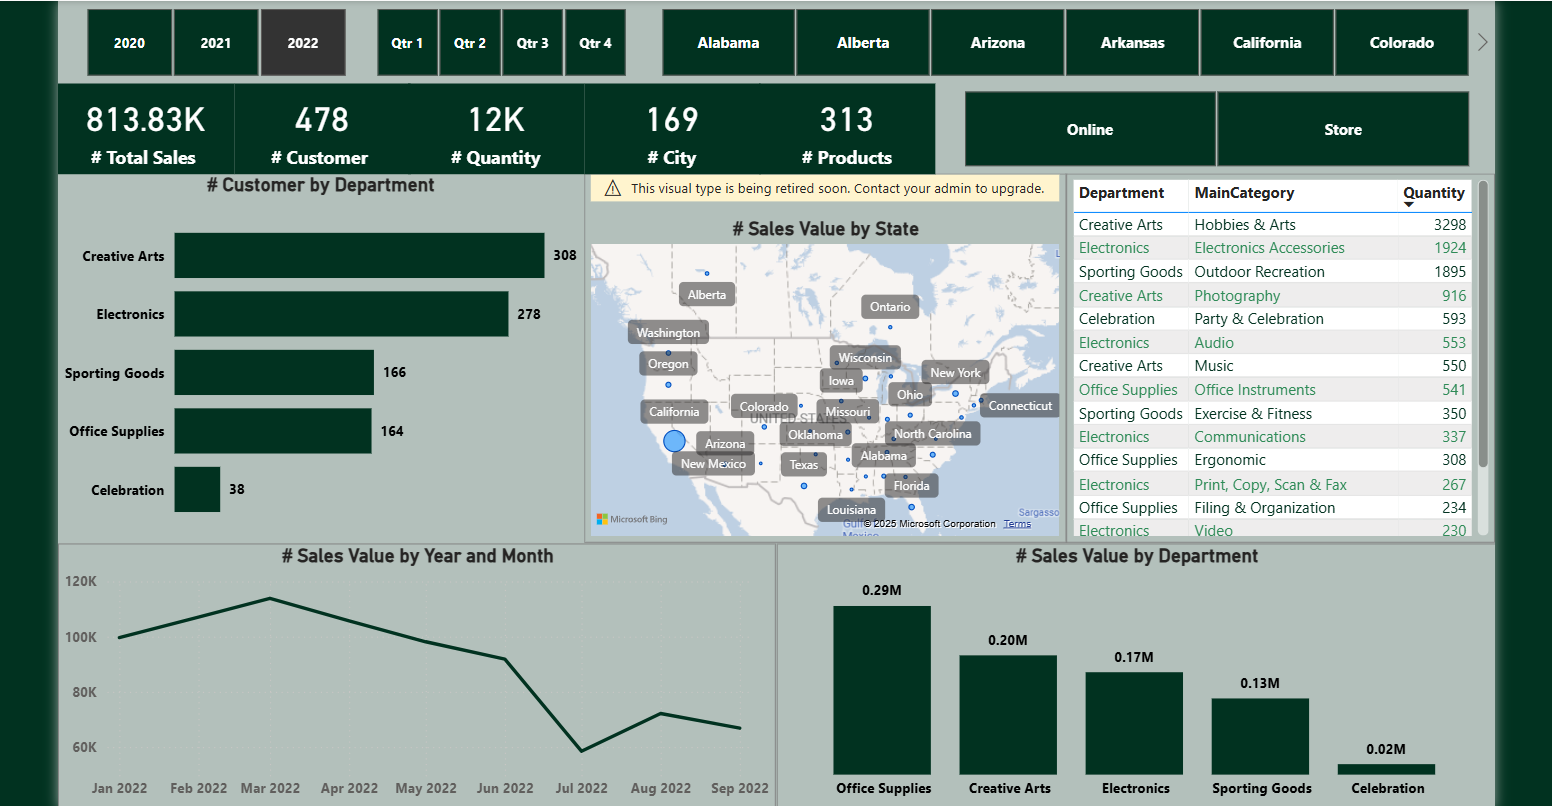

The page's visual inventory and layout, read from the dashboard file:
{"tool":"powerbi","page":{"name":"Page 1","canvas":[1280,720],"ordinal":0},"visuals":[{"type":"clusteredBarChart","title":" # Customer  by Department","fields":{"Category":["RawData.Department"],"Y":["Count(RawData.Customer ID)"]},"box":[0,154.1,468.3,328.9],"z":0},{"type":"lineChart","title":"# Sales Value by Year and Month","fields":{"Category":["RawData.Date.Variation.Date Hierarchy.Year","RawData.Date.Variation.Date Hierarchy.Month"],"Y":["Sum(RawData.Sales Value)"]},"box":[0,483,639.5,237.2],"z":1000},{"type":"columnChart","title":"# Sales Value by Department","fields":{"Category":["RawData.Department"],"Y":["Sum(RawData.Sales Value)"]},"box":[639.5,483,640.8,237.2],"z":2000},{"type":"map","title":"# Sales Value by State","fields":{"Category":["RawData.State/Region"],"Size":["Sum(RawData.Sales Value)"]},"box":[468.3,154.1,429.2,328.9],"z":3000},{"type":"tableEx","fields":{"Values":["RawData.Department","RawData.MainCategory","Sum(RawData.Quantity)"]},"box":[897.6,154.1,382.7,328.9],"z":4000},{"type":"card","fields":{"Values":["Count(RawData.Product ID)"]},"box":[624.9,73.4,156.5,80.7],"z":5000},{"type":"card","fields":{"Values":["Count(RawData.City)"]},"box":[468.3,73.4,156.5,80.7],"z":6000},{"type":"card","fields":{"Values":["Sum(RawData.Quantity)"]},"box":[311.8,73.4,156.5,80.7],"z":7000},{"type":"card","fields":{"Values":["Count(RawData.Customer ID)"]},"box":[156.5,73.4,156.5,80.7],"z":8000},{"type":"card","fields":{"Values":["Sum(RawData.Sales Value)"]},"box":[0,73.4,156.5,80.7],"z":9000},{"type":"slicer","fields":{"Values":["RawData.Date.Variation.Date Hierarchy.Year"]},"box":[0,0,280,73.4],"z":10000},{"type":"slicer","fields":{"Values":["RawData.Date.Variation.Date Hierarchy.Quarter"]},"box":[258,0,271.5,73.4],"z":11000},{"type":"slicer","fields":{"Values":["RawData.State/Region"]},"box":[512.4,0,767.9,73.4],"z":12000},{"type":"slicer","fields":{"Values":["RawData.Transaction Type"]},"box":[781.4,73.4,498.9,80.7],"z":13000}]}

Visuals, with their boxes in screenshot pixels (x1, y1, x2, y2):
" # Customer  by Department" clusteredBarChart: detection(129, 164, 627, 513)
"# Sales Value by Year and Month" lineChart: detection(129, 513, 809, 765)
"# Sales Value by Department" columnChart: detection(809, 513, 1490, 765)
"# Sales Value by State" map: detection(627, 164, 1083, 513)
tableEx - RawData.Department x RawData.MainCategory: detection(1083, 164, 1490, 513)
card - Count(RawData.Product ID): detection(793, 78, 960, 164)
card - Count(RawData.City): detection(627, 78, 793, 164)
card - Sum(RawData.Quantity): detection(461, 78, 627, 164)
card - Count(RawData.Customer ID): detection(296, 78, 462, 164)
card - Sum(RawData.Sales Value): detection(129, 78, 296, 164)
slicer - RawData.Date.Variation.Date Hierarchy.Year: detection(129, 0, 427, 78)
slicer - RawData.Date.Variation.Date Hierarchy.Quarter: detection(403, 0, 692, 78)
slicer - RawData.State/Region: detection(674, 0, 1490, 78)
slicer - RawData.Transaction Type: detection(960, 78, 1490, 164)
